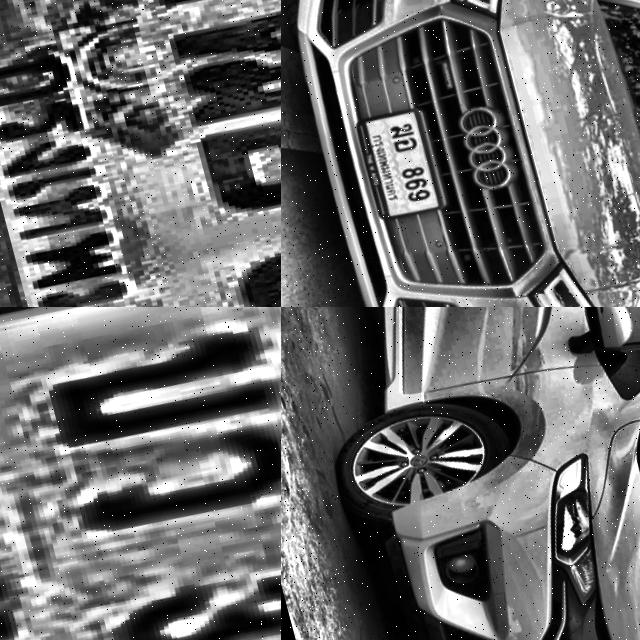license-plate: (0, 307, 281, 640), (0, 0, 281, 307), (348, 97, 452, 224)
